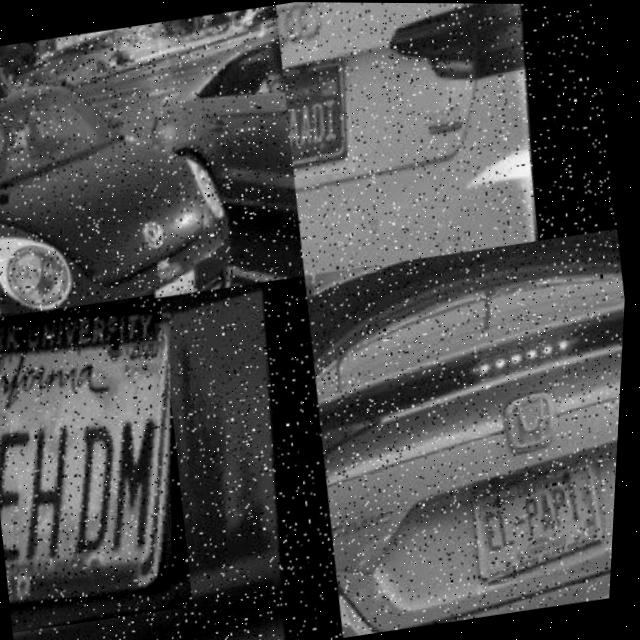LicensePlate: (0, 292, 212, 633), (480, 462, 614, 585), (279, 61, 362, 179)
